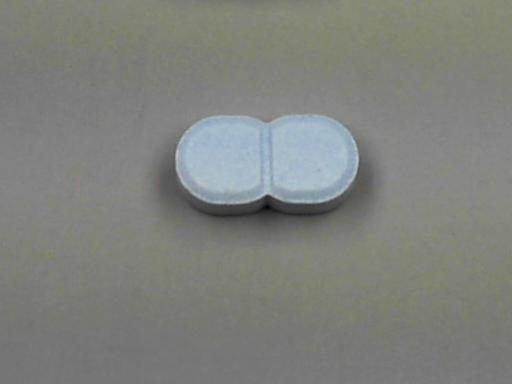Pill: (163, 103, 378, 225)
